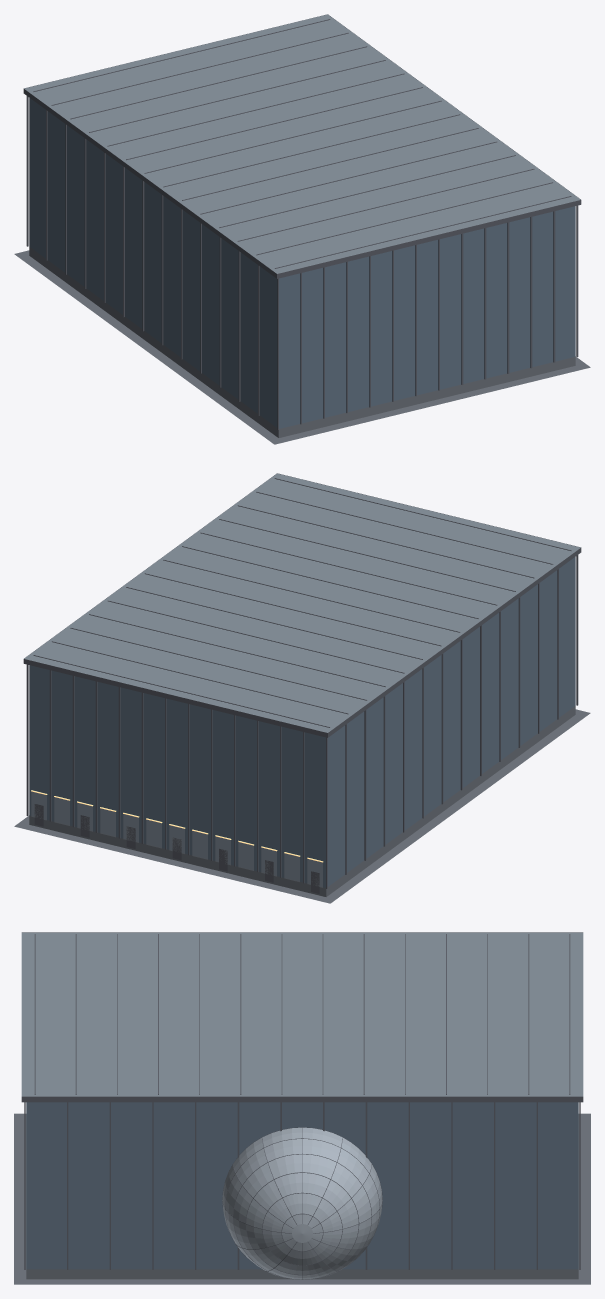
File: shell.glb
3 views of the same model, one above another, from view 1: azimuth 30°, elevation 25°; view 2: azimuth 150°, elevation 25°; view 3: azimuth 270°, elevation 25° (orthographic). The views are drawn at different scales.
Visible parts, largest first — view 1: shell_bowl_mass_cladding, shell_roof_canopy, shell_bowl_mass_facade_panels, shell_roof_canopy_fascia, shell_bowl_mass_plinth, shell_field_floor_apron; view 2: shell_bowl_mass_cladding, shell_roof_canopy, shell_bowl_mass_facade_panels, shell_roof_canopy_fascia, shell_bowl_mass_plinth, shell_bowl_mass_suite_glass_lobby, shell_field_floor_apron, shell_bowl_mass_portal_frames; view 3: shell_roof_canopy, shell_bowl_mass_cladding, shell_bowl_mass_facade_dome, shell_roof_canopy_fascia, shell_field_floor_apron, shell_bowl_mass_plinth, shell_bowl_mass_facade_panels, shell_bowl_mass_dome_seams.
Part boxes in pixels (<box>): shell_bowl_mass_cladding: <box>29,98,575,428</box>; shell_roof_canopy: <box>24,14,580,273</box>; shell_bowl_mass_facade_panels: <box>26,96,578,429</box>; shell_roof_canopy_fascia: <box>23,14,581,278</box>; shell_bowl_mass_plinth: <box>29,247,575,437</box>; shell_field_floor_apron: <box>14,250,590,444</box>; shell_bowl_mass_cladding: <box>29,557,575,887</box>; shell_roof_canopy: <box>24,473,580,732</box>; shell_bowl_mass_facade_panels: <box>26,555,578,888</box>; shell_roof_canopy_fascia: <box>23,473,581,737</box>; shell_bowl_mass_plinth: <box>29,706,575,896</box>; shell_bowl_mass_suite_glass_lobby: <box>31,791,322,887</box>; shell_field_floor_apron: <box>14,709,590,903</box>; shell_bowl_mass_portal_frames: <box>34,804,319,893</box>; shell_roof_canopy: <box>21,932,583,1096</box>; shell_bowl_mass_cladding: <box>26,1102,578,1269</box>; shell_bowl_mass_facade_dome: <box>222,1127,382,1279</box>; shell_roof_canopy_fascia: <box>21,932,583,1102</box>; shell_field_floor_apron: <box>14,1113,590,1284</box>; shell_bowl_mass_plinth: <box>26,1269,578,1279</box>; shell_bowl_mass_facade_panels: <box>24,1102,580,1269</box>; shell_bowl_mass_dome_seams: <box>222,1127,382,1279</box>.
Size of the model in its own units: 50.35 by 21.79 by 61.56.
